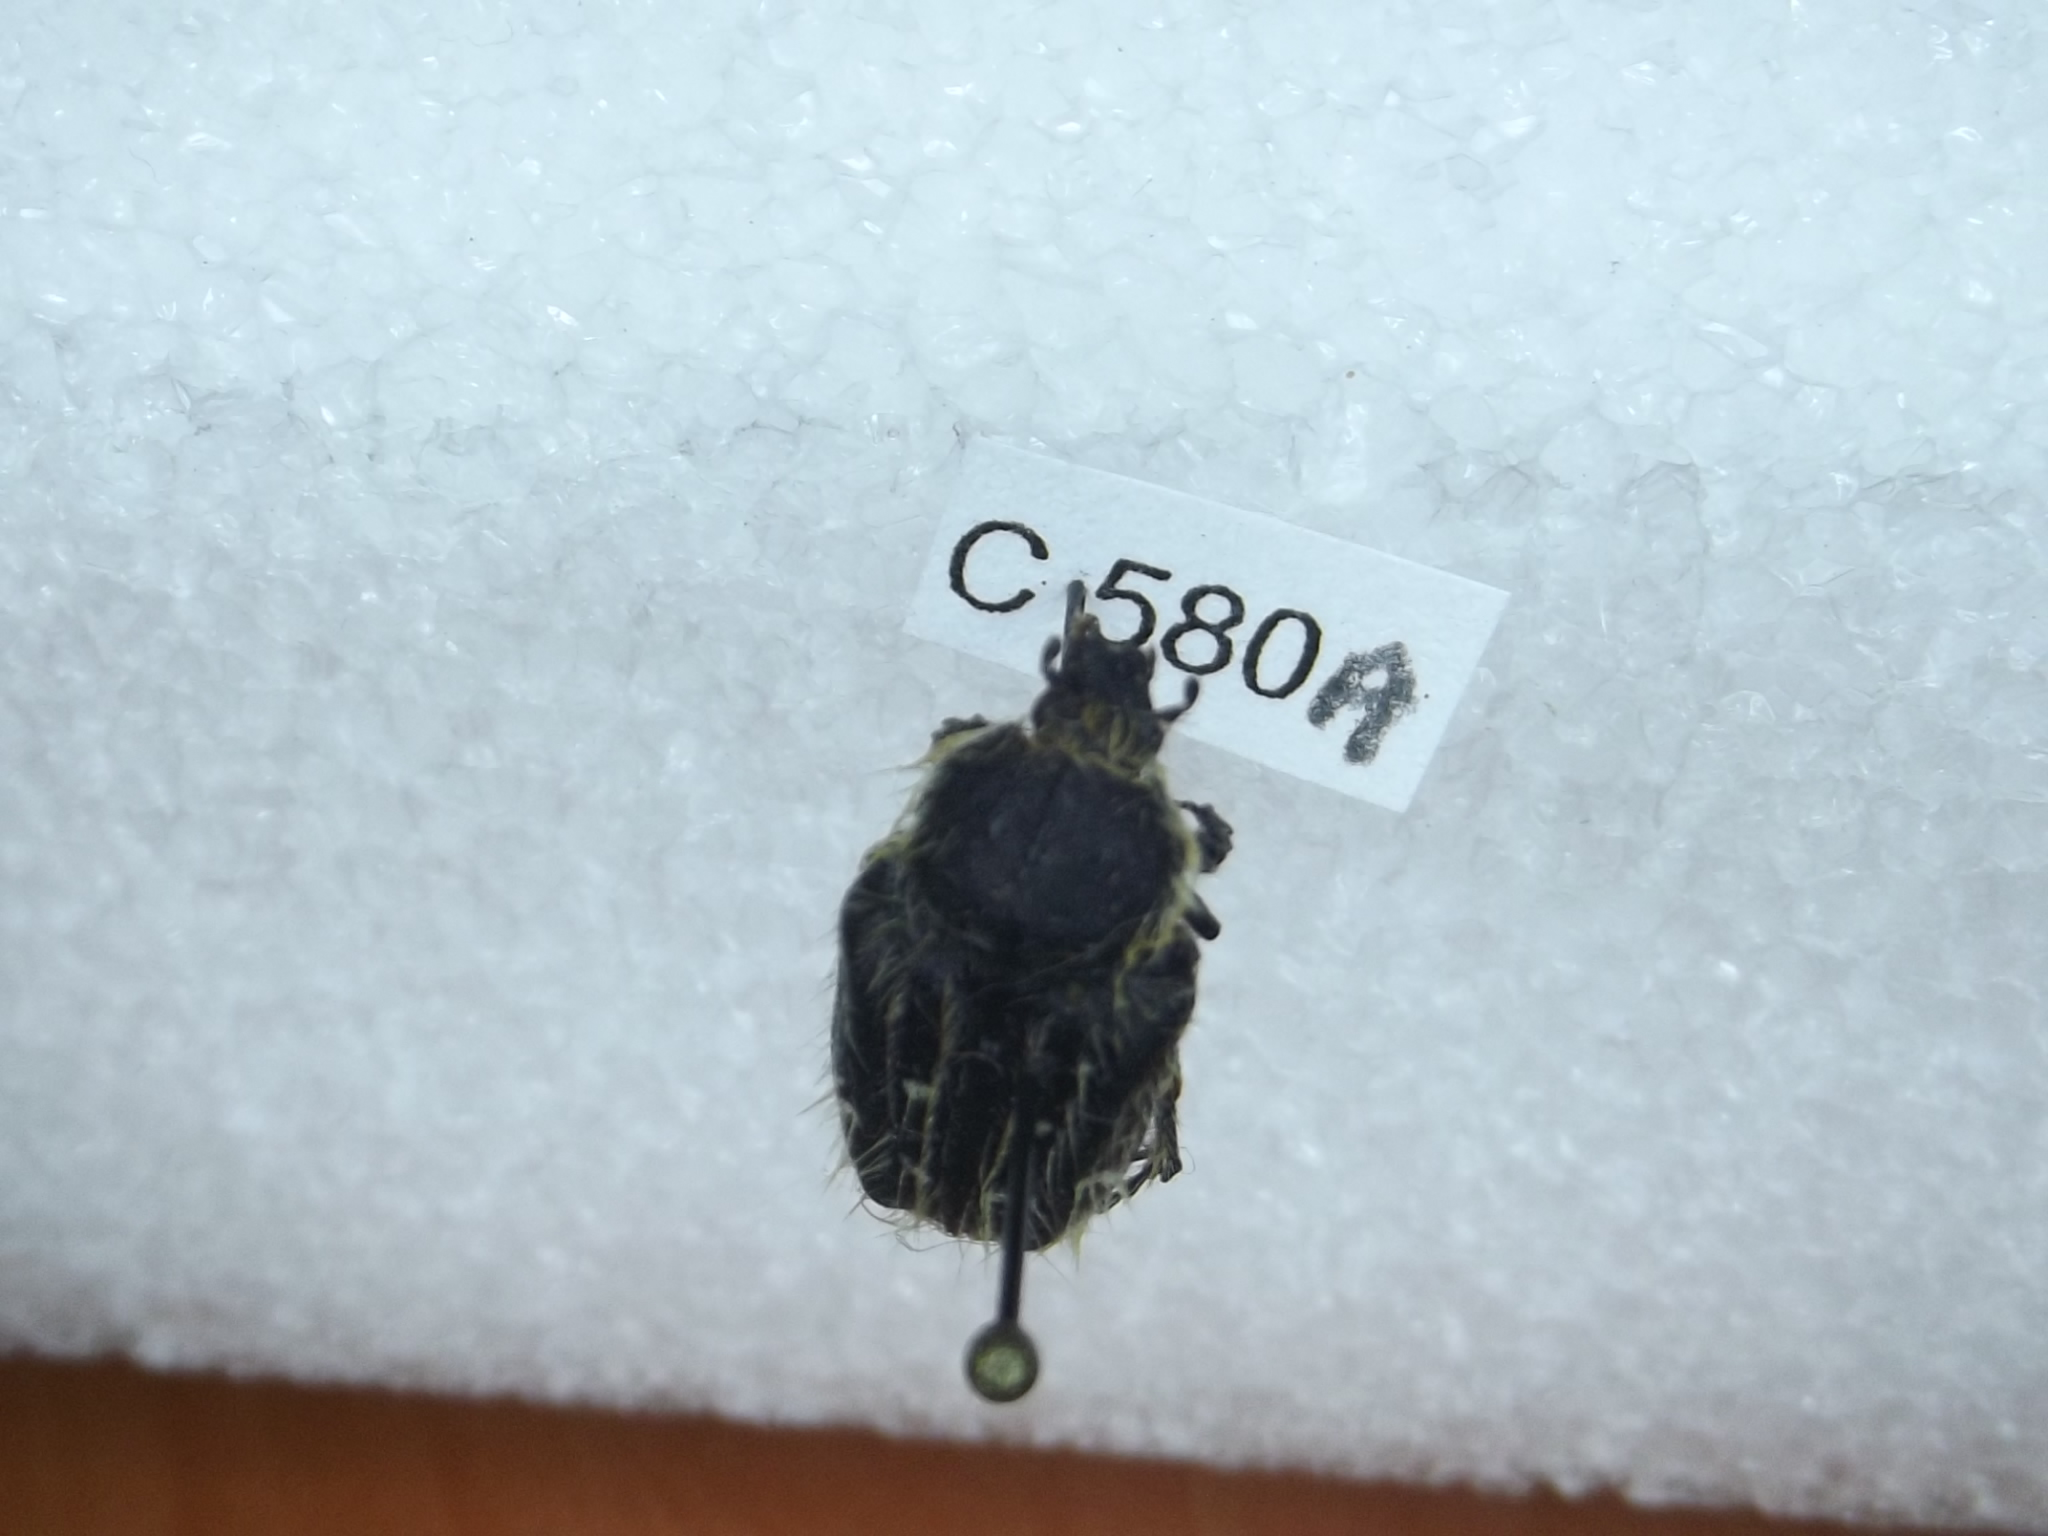Tropinota_hirta: (795, 595, 1250, 1291)
